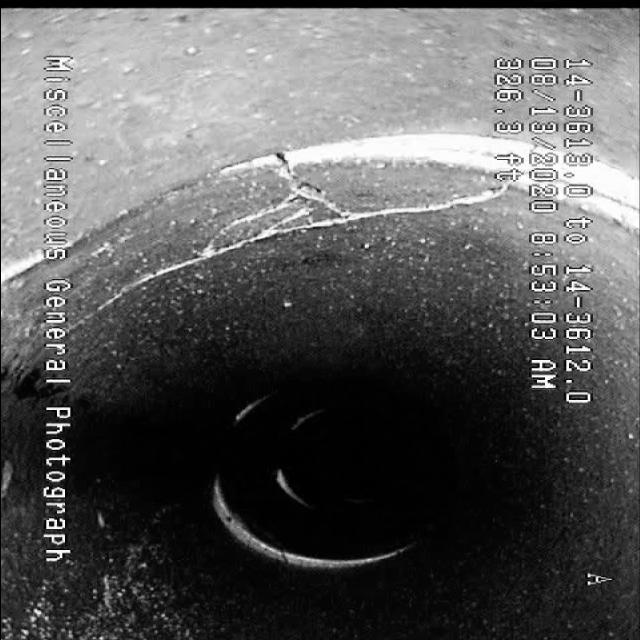Fracture: (108, 142, 475, 326)
